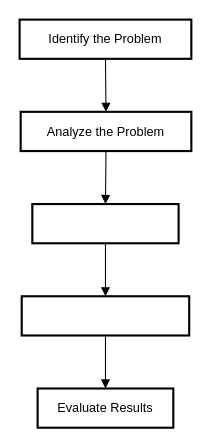
This 210x446 diagram has some shape labels left out. Here are the shapes that lost their labels. From the top down, the box of each, then its label:
(31, 202, 179, 244): Identify Solutions
(20, 295, 190, 336): Implement Solutions
